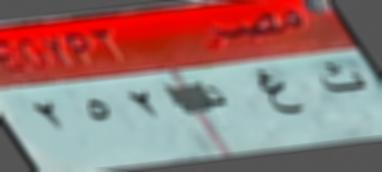2: (127, 83, 162, 126), (32, 97, 66, 131)
5: (84, 94, 114, 126)
daal: (204, 72, 231, 114)
ghayn: (252, 64, 302, 119)
thaa: (316, 57, 370, 100)
